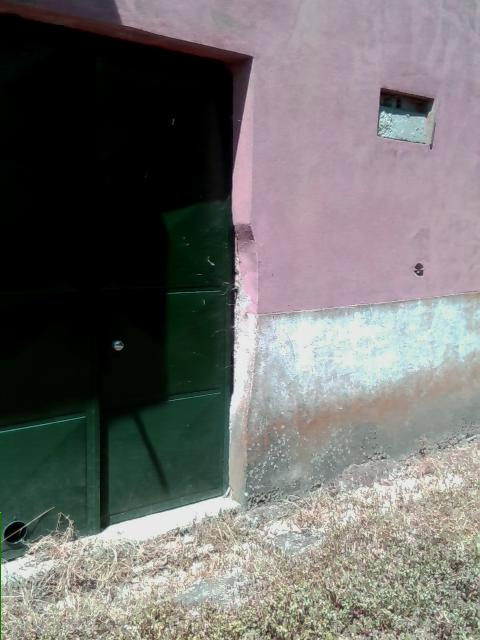closed_door: (1, 12, 235, 559)
